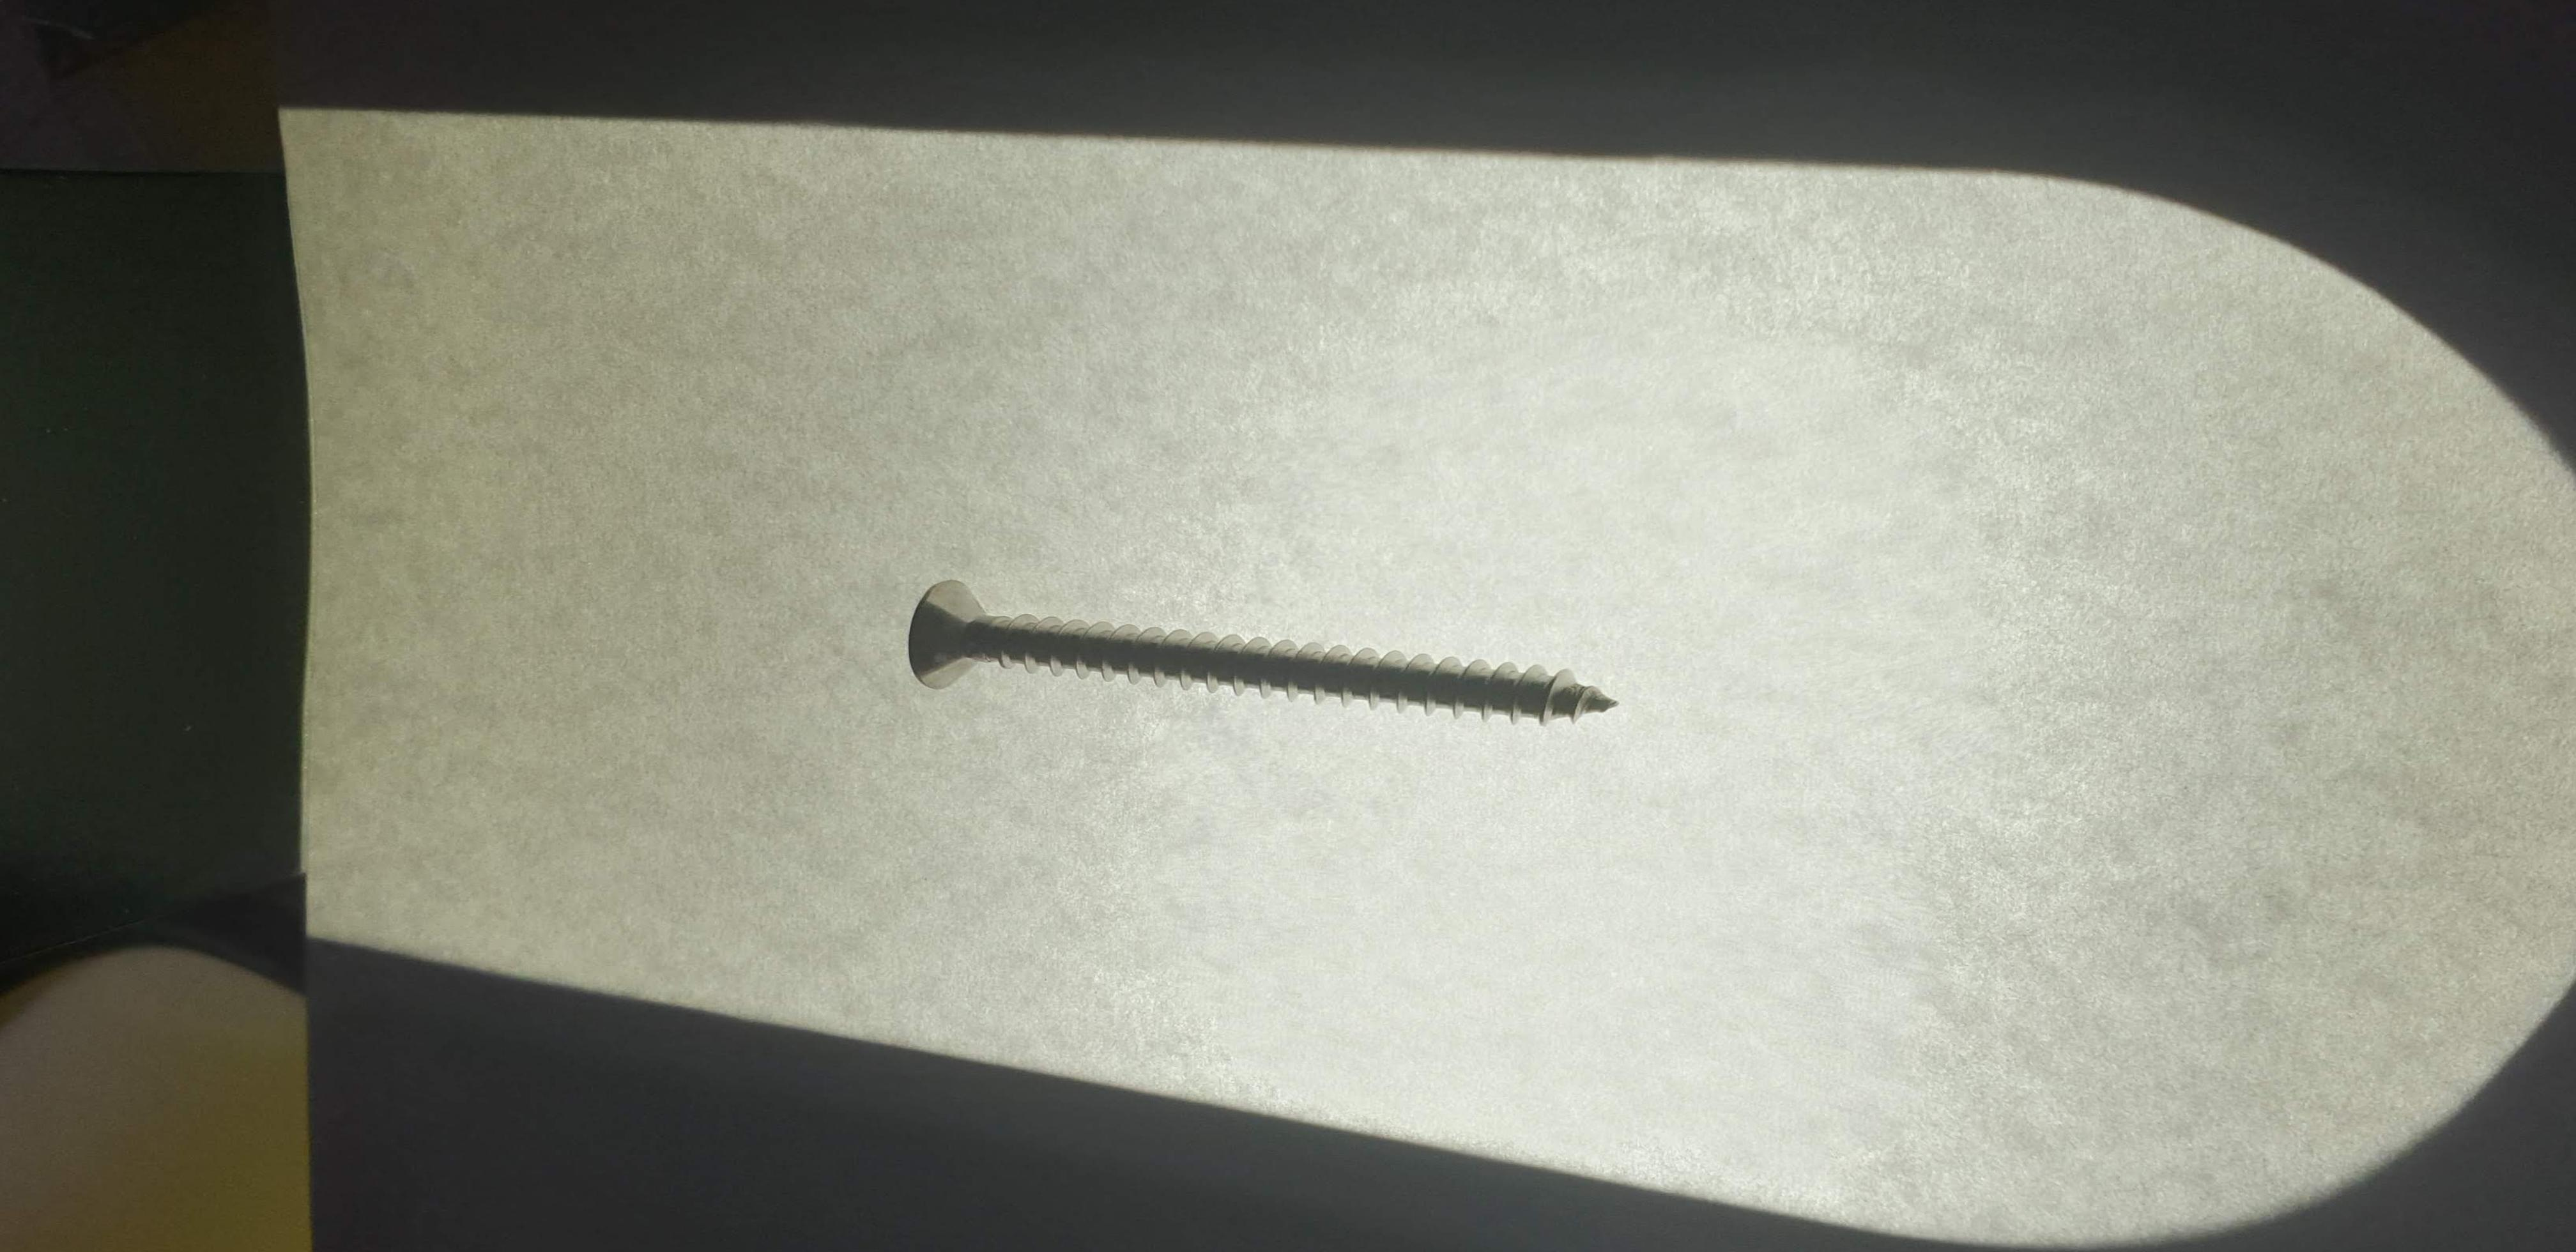S001: (864, 511, 1692, 799)
